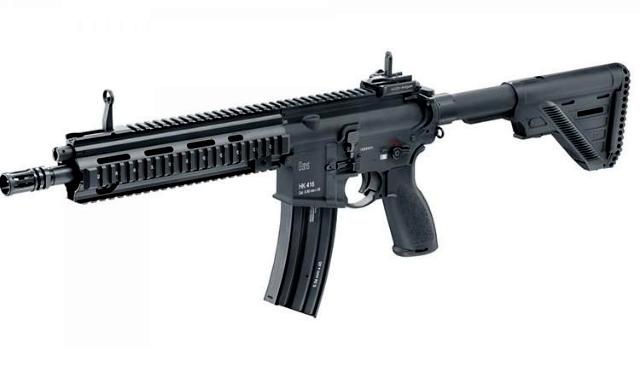rifle: (0, 31, 640, 323)
